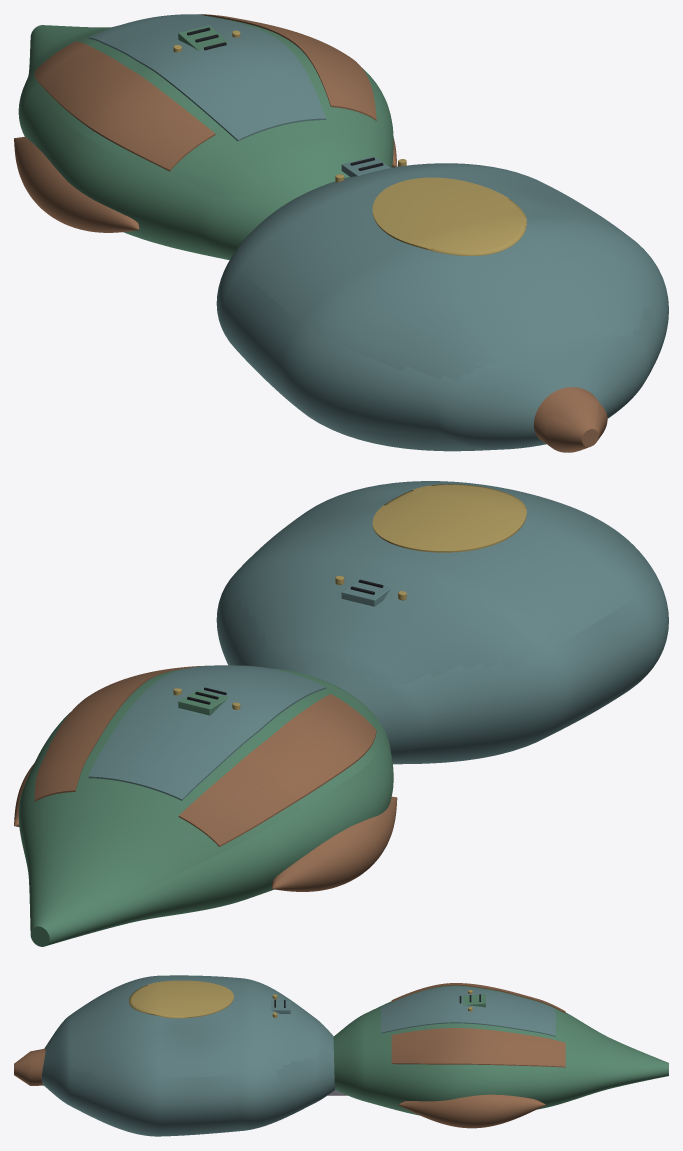
3 renders of one model, top to bottom at view 1: azimuth 30°, elevation 25°; view 2: azimuth 150°, elevation 25°; view 3: azimuth 270°, elevation 25°, orthographic. The views are drawn at different scales.
Visible parts, largest first — view 1: Transportation slate forward module, Transportation green aft module, RI3C pale aft upper field, Transportation copper aft trim -1, Transportation gold forward patch, RI3C copper shoulder pod -1, Transportation copper aft trim 1, Transportation copper terminal, Transportation service cover 1; view 2: Transportation slate forward module, Transportation green aft module, RI3C pale aft upper field, Transportation copper aft trim -1, Transportation gold forward patch, Transportation copper aft trim 1, RI3C copper shoulder pod -1, Transportation service cover 0, Transportation service cover 1; view 3: Transportation slate forward module, Transportation green aft module, Transportation copper aft trim 1, RI3C pale aft upper field, RI3C copper shoulder pod 1, Transportation gold forward patch, Transportation copper terminal, Transportation copper aft trim -1, Transportation service cover 1.
Part boxes in pixels (left/top/right/bottom): Transportation slate forward module: left=216, top=163, right=668, bottom=451; Transportation green aft module: left=18, top=16, right=393, bottom=260; RI3C pale aft upper field: left=88, top=14, right=326, bottom=141; Transportation copper aft trim -1: left=34, top=41, right=215, bottom=171; Transportation gold forward patch: left=372, top=177, right=526, bottom=255; RI3C copper shoulder pod -1: left=14, top=136, right=139, bottom=232; Transportation copper aft trim 1: left=198, top=14, right=376, bottom=120; Transportation copper terminal: left=533, top=387, right=607, bottom=452; Transportation service cover 1: left=178, top=25, right=228, bottom=50; Transportation slate forward module: left=216, top=481, right=668, bottom=764; Transportation green aft module: left=18, top=668, right=393, bottom=946; RI3C pale aft upper field: left=88, top=665, right=326, bottom=800; Transportation copper aft trim -1: left=178, top=694, right=376, bottom=846; Transportation gold forward patch: left=372, top=484, right=526, bottom=552; Transportation copper aft trim 1: left=34, top=665, right=206, bottom=801; RI3C copper shoulder pod -1: left=272, top=796, right=397, bottom=891; Transportation service cover 0: left=341, top=579, right=390, bottom=606; Transportation service cover 1: left=178, top=689, right=229, bottom=715; Transportation slate forward module: left=42, top=975, right=334, bottom=1136; Transportation green aft module: left=333, top=985, right=668, bottom=1115; Transportation copper aft trim 1: left=391, top=1028, right=565, bottom=1067; RI3C pale aft upper field: left=381, top=986, right=555, bottom=1036; RI3C copper shoulder pod 1: left=398, top=1094, right=545, bottom=1128; Transportation gold forward patch: left=129, top=980, right=233, bottom=1018; Transportation copper terminal: left=14, top=1048, right=45, bottom=1085; Transportation copper aft trim -1: left=391, top=983, right=565, bottom=1013; Transportation service cover 1: left=461, top=994, right=485, bottom=1007.
Size of the model in its own units: 1.56 by 0.8085 by 3.99.
6 materials, 3 textured.
